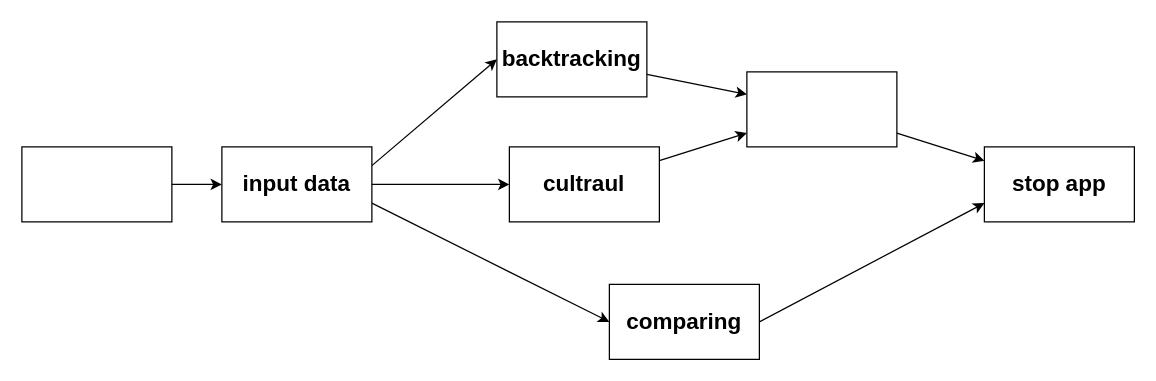
This 1156x381 diagram has some shape labels left out. The centre of each missing label's shape, as x and y in pixels:
output visual: point 821,109
start app: point 96,184
